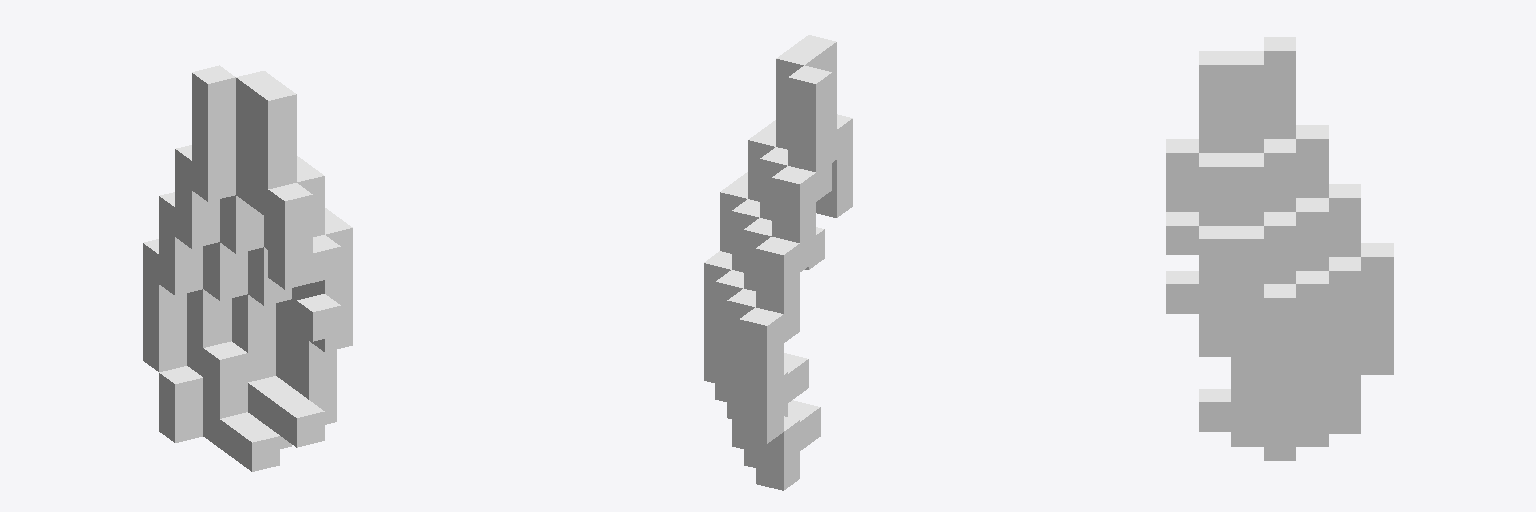
File: vase-1-3.obj
3 views of the same model, side by side, from view 1: azimuth 30°, elevation 25°; view 2: azimuth 150°, elevation 25°; view 3: azimuth 270°, elevation 25° (orthographic).
Parts seen in each view (by area): view 1: 3; view 2: 3; view 3: 3.
Boxes of the visible parts, <box> form: 3: <box>143,65,352,471</box>; 3: <box>704,35,852,490</box>; 3: <box>1166,37,1393,460</box>.
Bounding box in the file's own units: 0.4 × 1.3 × 0.7.